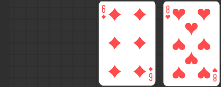6D: (101, 5, 108, 21)
8H: (212, 67, 219, 83)
